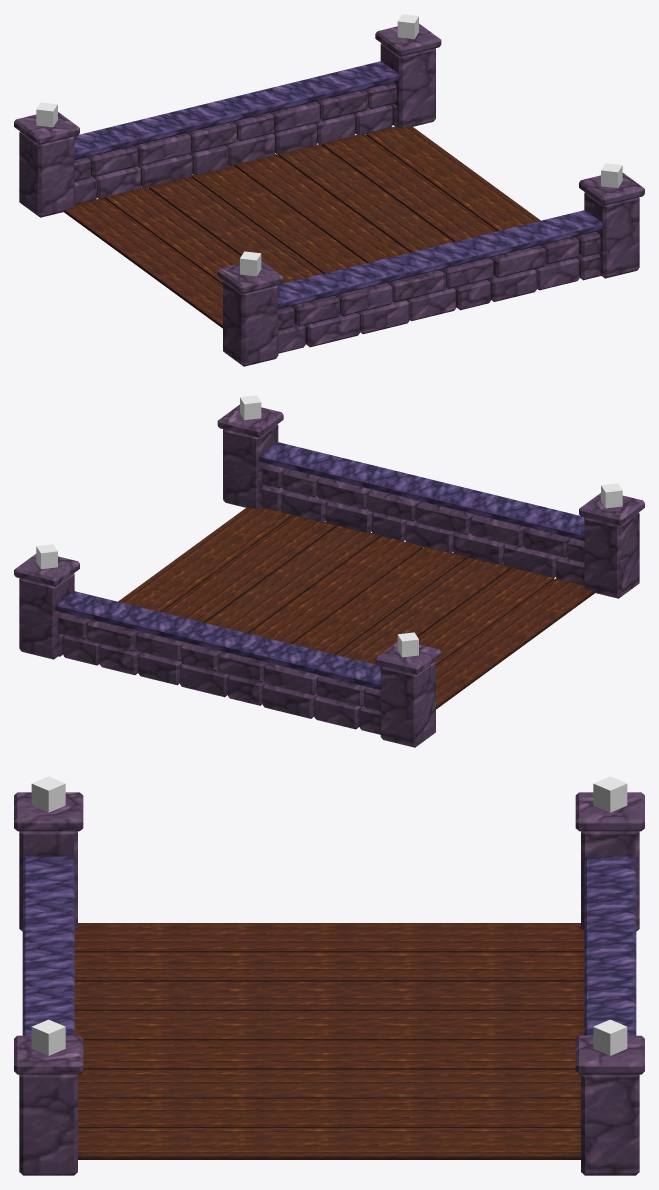
File: mapkit_bridge_crystal.fbx
3 renders of one model, top to bottom at view 1: azimuth 30°, elevation 25°; view 2: azimuth 150°, elevation 25°; view 3: azimuth 270°, elevation 25°, orthographic. The views are drawn at different scales.
Visible parts, largest first — view 1: Body, c_115_230_255; view 2: Body, c_115_230_255; view 3: Body, c_115_230_255.
Part boxes in pixels (x1,y1,x2,y2): Body: (14, 23, 644, 366); c_115_230_255: (36, 14, 622, 276); Body: (14, 404, 644, 747); c_115_230_255: (36, 395, 622, 657); Body: (14, 792, 644, 1175); c_115_230_255: (31, 776, 627, 1055).
Bounding box in the file's own units: 1860 × 440 × 1820.
1 material, 1 textured.
